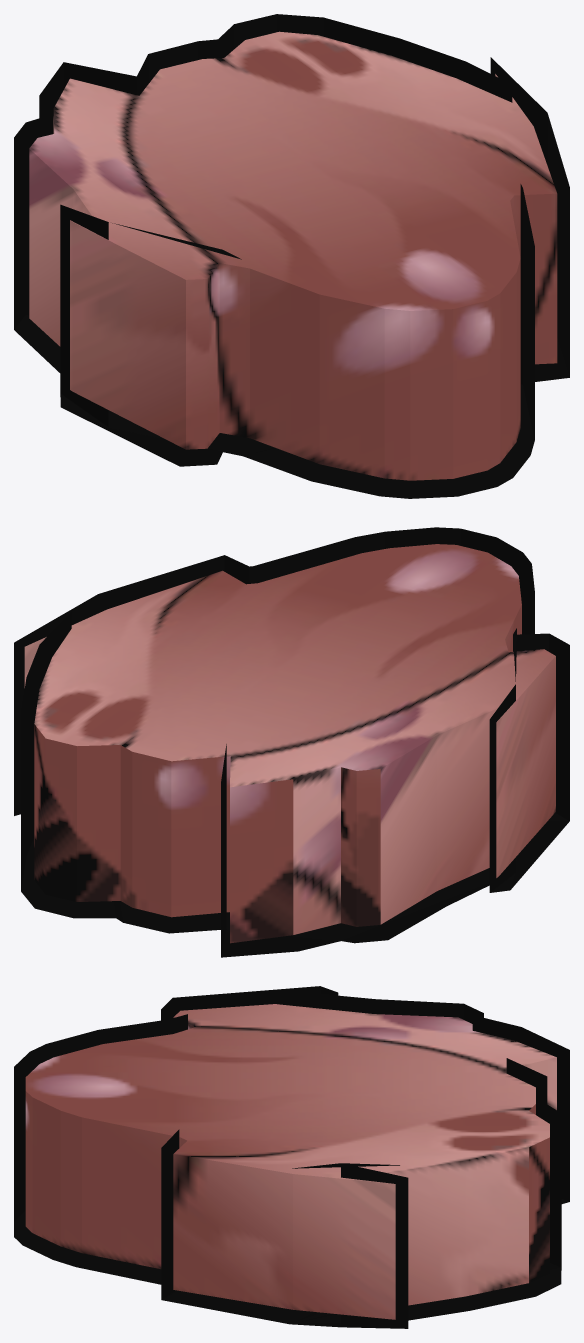
Rendered from Building_FleshmassHeart_Things_Building_FleshmassHeart.glb.
3 views of the same model, one above another, from view 1: azimuth 30°, elevation 25°; view 2: azimuth 150°, elevation 25°; view 3: azimuth 270°, elevation 25° (orthographic). The views are drawn at different scales.
Visible parts, largest first — view 1: Body, Outline; view 2: Body, Outline; view 3: Body, Outline.
Part boxes in pixels (x1=…): Body: x1=29, y1=31, x2=557, y2=480; Outline: x1=14, y1=14, x2=569, y2=498; Body: x1=24, y1=544, x2=555, y2=943; Outline: x1=14, y1=527, x2=569, y2=957; Body: x1=25, y1=1004, x2=556, y2=1319; Outline: x1=14, y1=986, x2=569, y2=1328.
Bounding box in the file's own units: 0.8884 × 0.3592 × 1.1.
2 materials, 1 textured.
